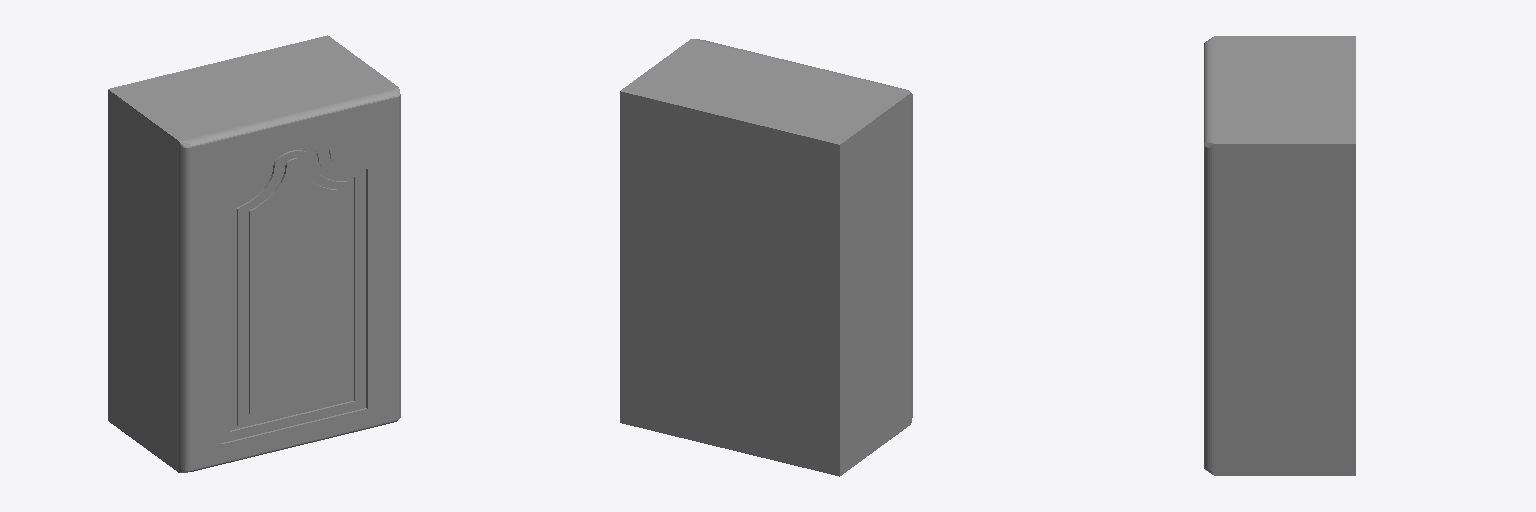
The model's file is single-wall-unit-500.obj.
3 renders of one model, left to right at view 1: azimuth 30°, elevation 25°; view 2: azimuth 150°, elevation 25°; view 3: azimuth 270°, elevation 25°, orthographic.
Visible parts, largest first — view 1: Cube.003_Cube.008, Cube.002_Cube.004, Cube_Cube.002; view 2: Cube_Cube.002, Cube.002_Cube.004, Cube.001_Cube.003, Cube.003_Cube.008; view 3: Cube.001_Cube.003, Cube_Cube.002, Cube.003_Cube.008, Cube.002_Cube.004.
Part boxes in pixels (left/top/right/bottom): Cube.003_Cube.008: left=179, top=88, right=400, bottom=472; Cube.002_Cube.004: left=108, top=88, right=184, bottom=472; Cube_Cube.002: left=114, top=37, right=391, bottom=139; Cube_Cube.002: left=626, top=41, right=903, bottom=474; Cube.002_Cube.004: left=833, top=91, right=910, bottom=476; Cube.001_Cube.003: left=620, top=39, right=696, bottom=423; Cube.003_Cube.008: left=693, top=39, right=912, bottom=422; Cube.001_Cube.003: left=1214, top=141, right=1355, bottom=475; Cube_Cube.002: left=1214, top=40, right=1355, bottom=140; Cube.003_Cube.008: left=1204, top=37, right=1213, bottom=474; Cube.002_Cube.004: left=1214, top=36, right=1355, bottom=39.
Bounding box in the file's own units: 100 × 144 × 60.